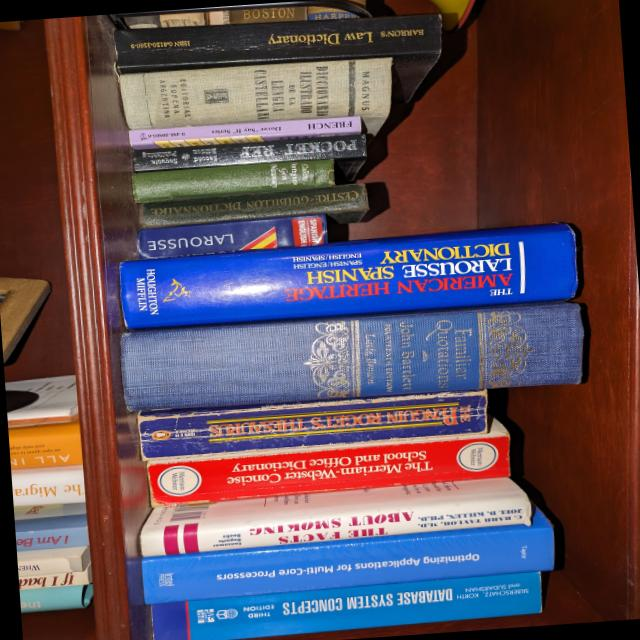book: (118, 300, 591, 412), (117, 222, 582, 330), (138, 508, 556, 610), (136, 473, 532, 558), (144, 419, 512, 507), (113, 11, 440, 102), (149, 570, 543, 640), (137, 387, 489, 460), (118, 57, 392, 137), (132, 134, 367, 195), (137, 183, 369, 237), (130, 156, 335, 204), (135, 213, 327, 260), (127, 114, 362, 150)
